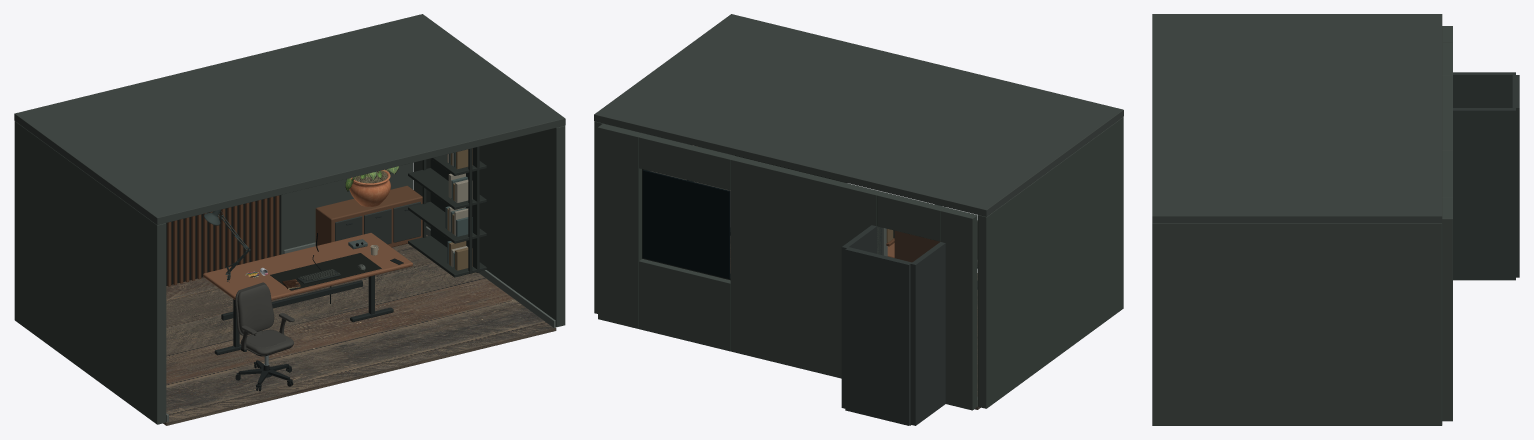
Rendered from home-office.glb.
3 renders of one model, left to right at view 1: azimuth 30°, elevation 25°; view 2: azimuth 150°, elevation 25°; view 3: azimuth 270°, elevation 25°, orthographic. The views are drawn at different scales.
Visible parts, largest first — view 1: Home office — Ceiling mineral paint, Home office — Warm mineral paint, Home office — Poly Haven dark wooden planks, Home office — Smoked walnut slats, Home office — Bookcase charcoal, Home office — Oiled black walnut, Home task chair, Home office — Acoustic felt, Home office — Credenza walnut, Home office — Credenza lacquer, Home office — Powder coated steel, Home office — Wool desk mat (+5 smaller); view 2: Home office — Warm mineral paint, Home office — Ceiling mineral paint, Home office — Hall wall, Home office — Night glass, Home office — Smoked oak door; view 3: Home office — Warm mineral paint, Home office — Ceiling mineral paint, Home office — Hall wall.
Boxes of the visible parts, x1,y1,x2,y2 form: Home office — Ceiling mineral paint: (14, 14, 565, 224); Home office — Warm mineral paint: (14, 121, 565, 424); Home office — Poly Haven dark wooden planks: (163, 235, 556, 425); Home office — Smoked walnut slats: (167, 195, 279, 286); Home office — Bookcase charcoal: (408, 146, 486, 277); Home office — Oiled black walnut: (203, 233, 412, 300); Home task chair: (235, 282, 294, 391); Home office — Acoustic felt: (166, 195, 281, 285); Home office — Credenza walnut: (315, 185, 422, 247); Home office — Credenza lacquer: (335, 201, 420, 244); Home office — Powder coated steel: (214, 209, 408, 355); Home office — Wool desk mat: (270, 253, 381, 290); Home office — Warm mineral paint: (594, 117, 1123, 410); Home office — Ceiling mineral paint: (594, 14, 1123, 216); Home office — Hall wall: (841, 225, 945, 425); Home office — Night glass: (642, 170, 730, 278); Home office — Smoked oak door: (894, 230, 940, 262); Home office — Warm mineral paint: (1152, 26, 1452, 425); Home office — Ceiling mineral paint: (1152, 14, 1442, 223); Home office — Hall wall: (1453, 72, 1519, 280).
Bounding box in the file's own units: 5.31 × 2.61 × 4.08.
38 materials, 5 textured.
